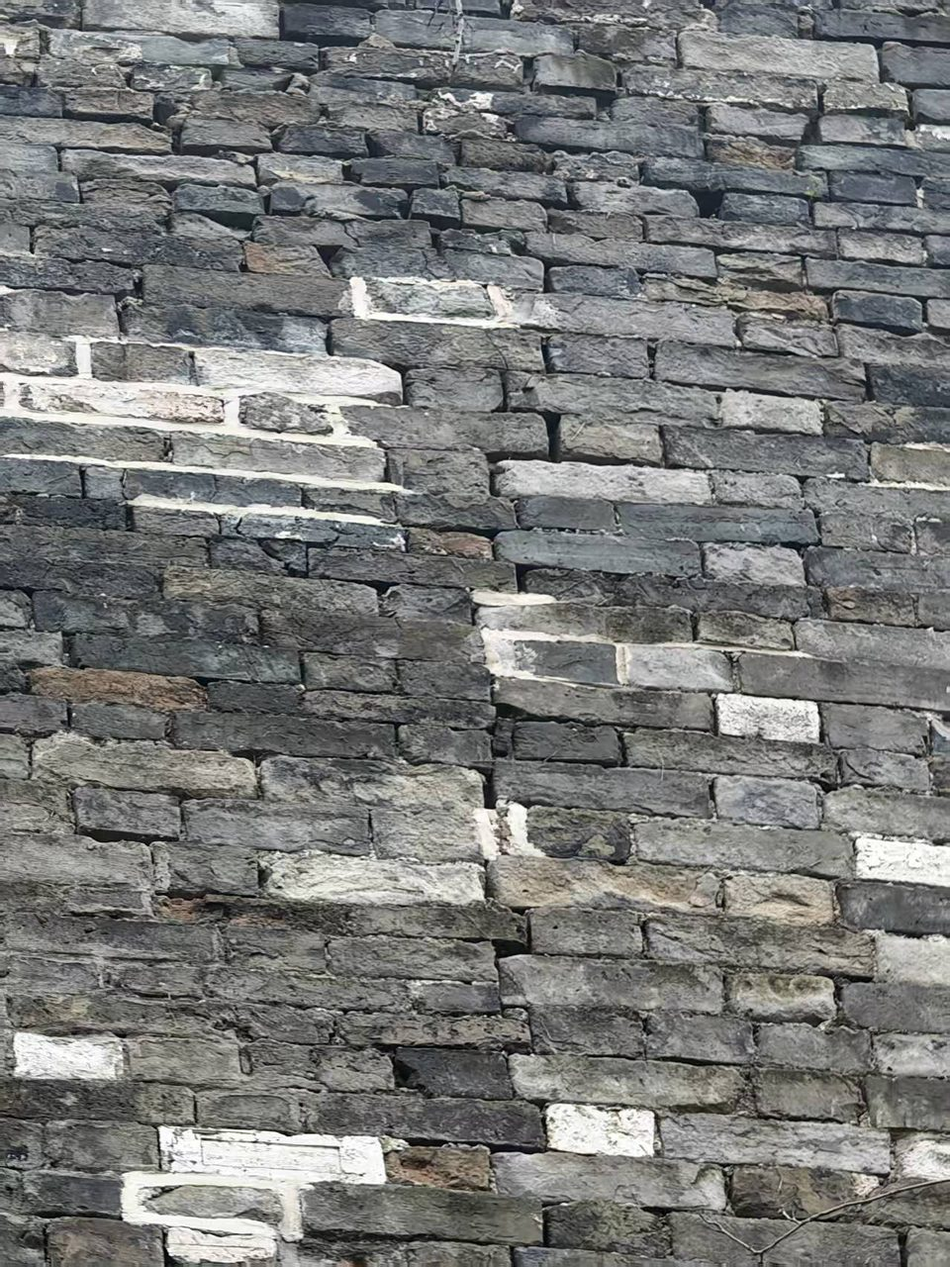crack: (449, 672, 555, 1109)
